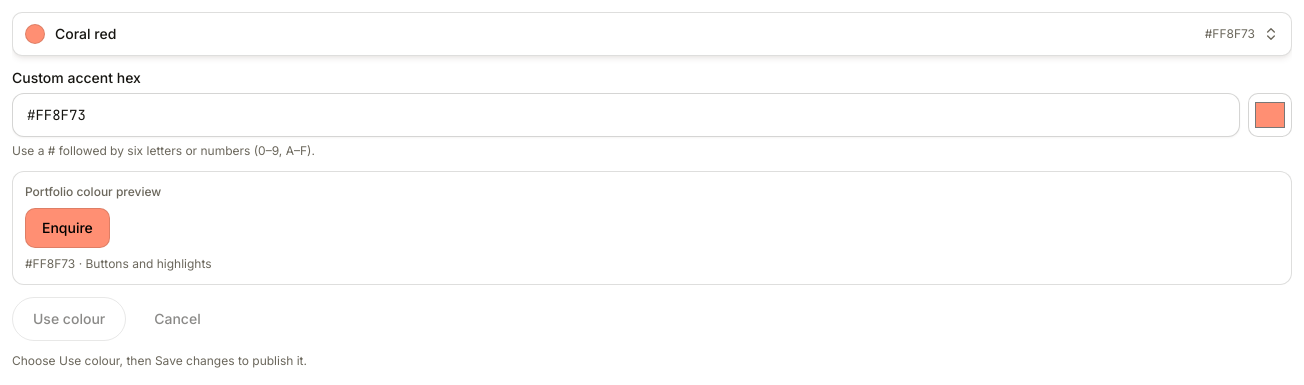
Scenario: PortfolioAccentColor › cancels a draft and keeps picker changes local until applied
The width and height of the screenshot is (1304, 385).
Type "#223344" into the colour field named "Choose custom accent colour". click: (1270, 115)
box: [1248,93,1292,137]
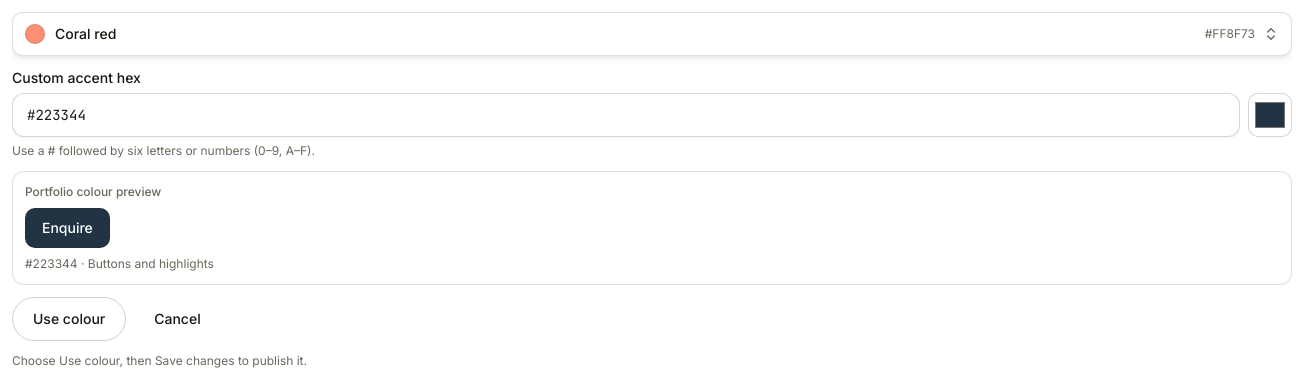
Expected: the field labelled "Custom accent hex" holds "#223344", [12,93,1240,137]
Click the button with aria-label "Cancel colour change". click: (177, 319)
box: [134,297,221,341]
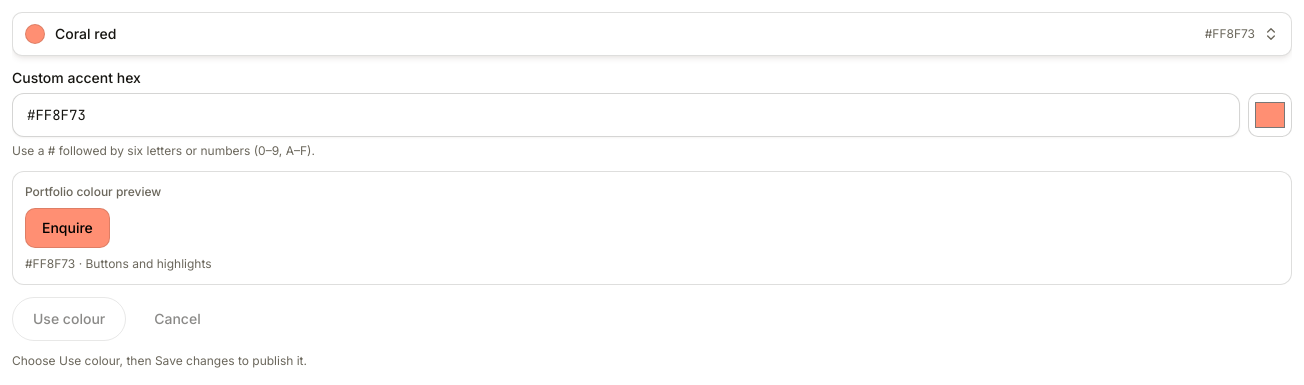
Expected: the field labelled "Custom accent hex" holds "#FF8F73", [12,93,1240,137]
